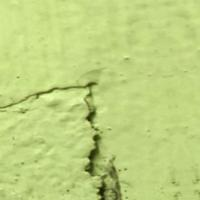crack: (6, 70, 121, 196)
